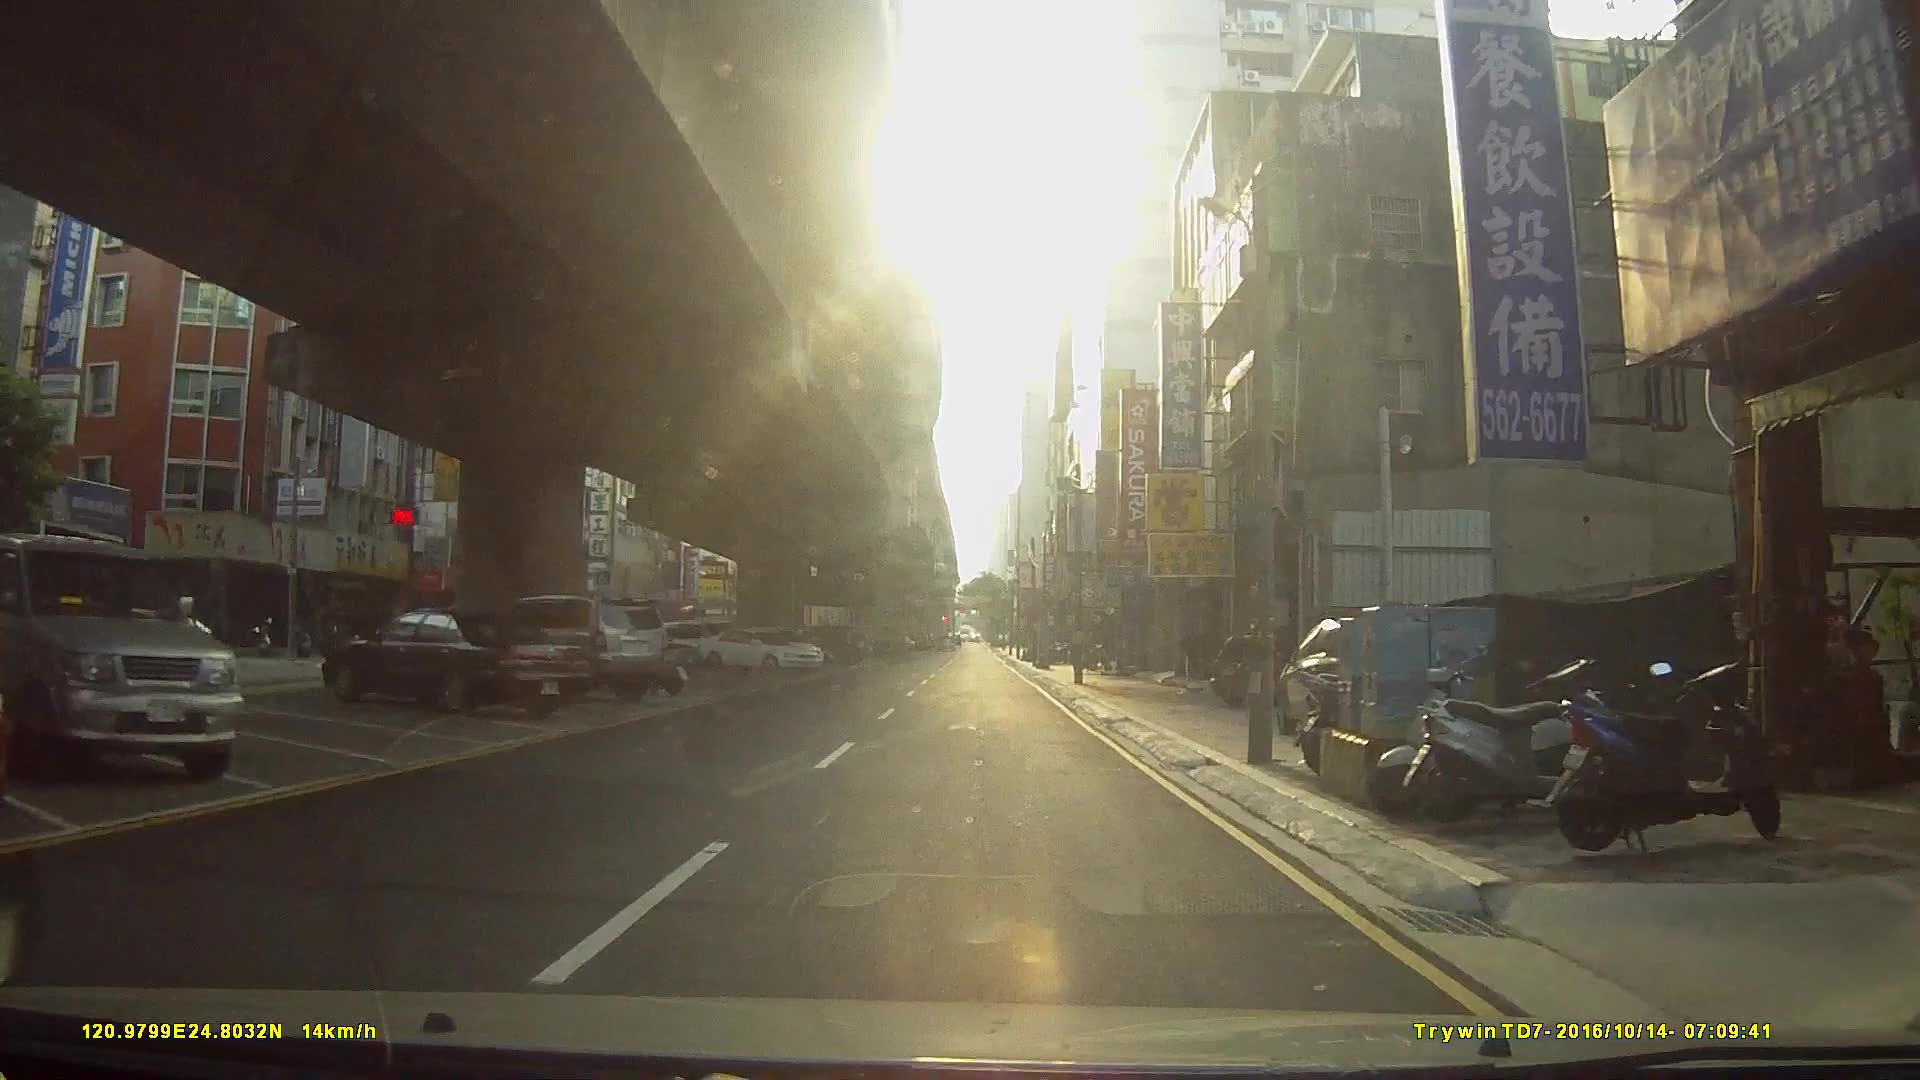vehicle: (0, 531, 243, 785), (318, 605, 597, 717), (483, 591, 669, 703), (1209, 625, 1331, 708), (695, 625, 828, 674)
